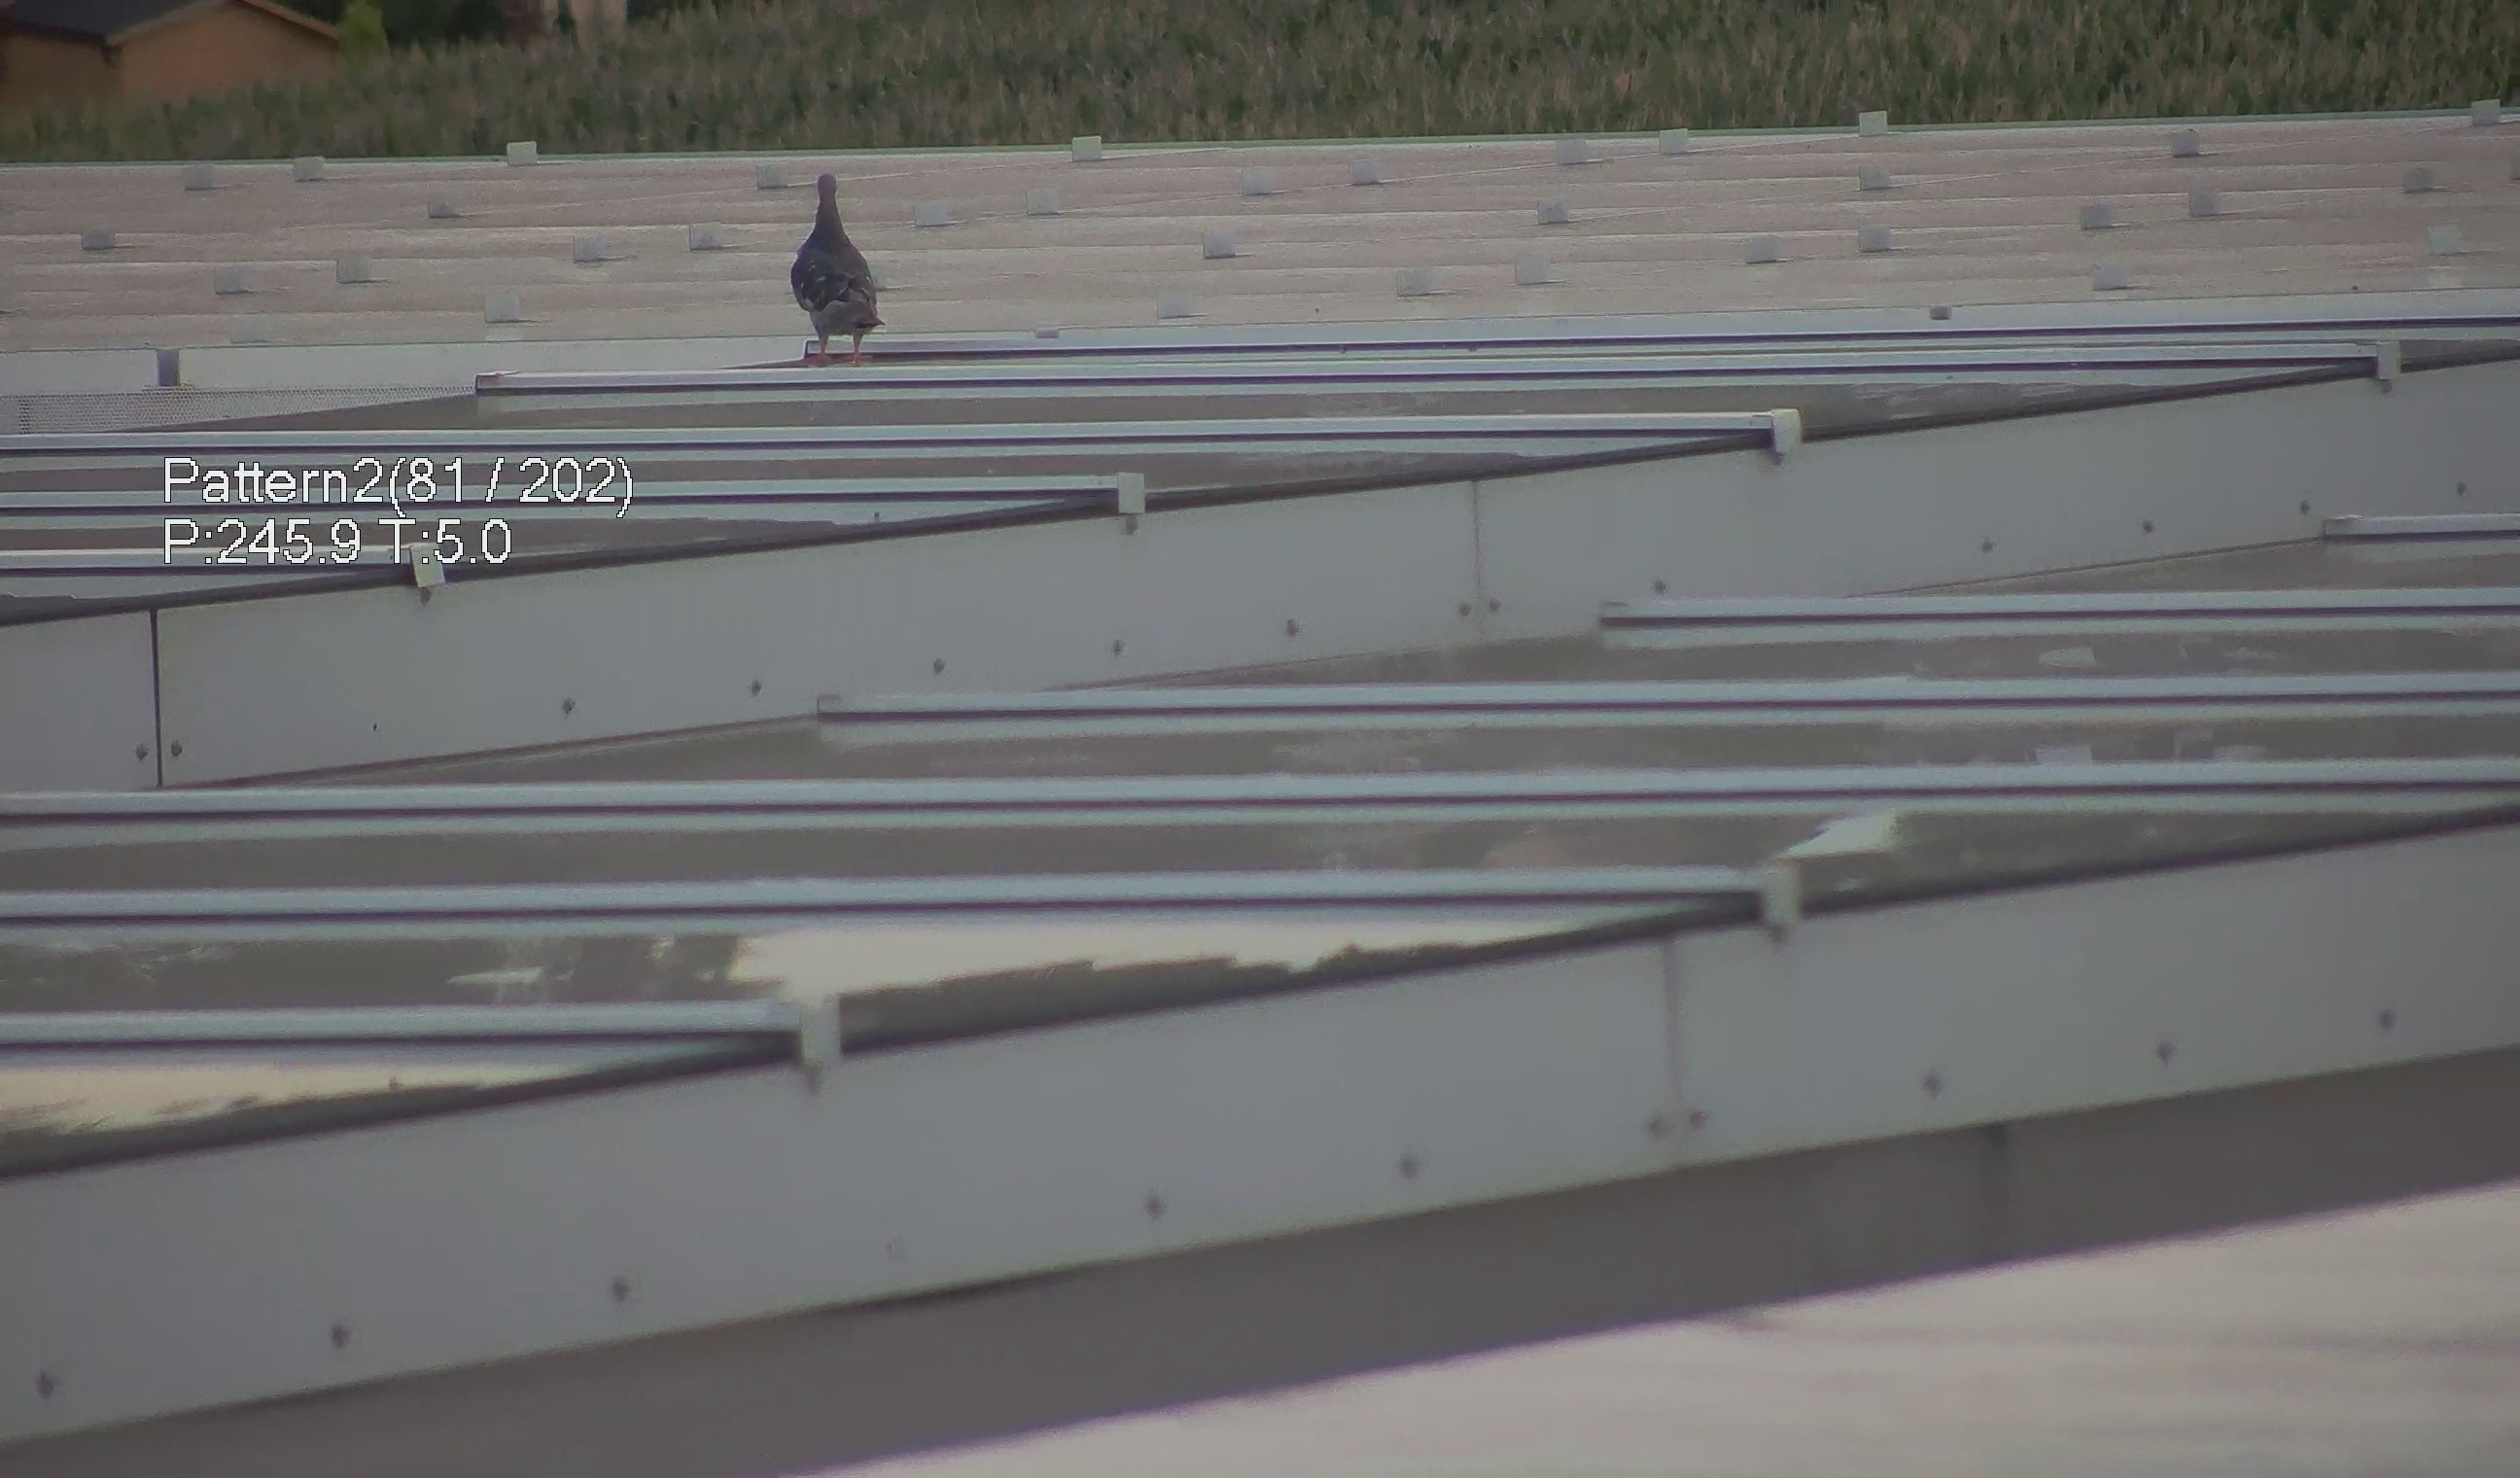Pigeon: (776, 162, 892, 348)
